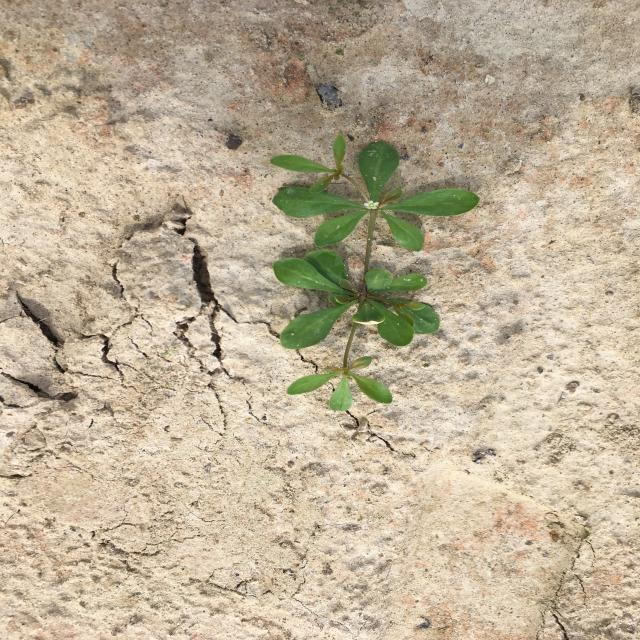Carpetweed: (270, 134, 480, 412)
